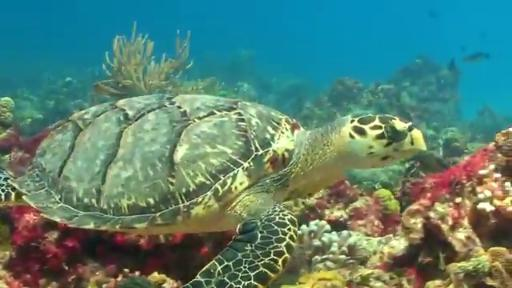Fish: (0, 95, 425, 287)
